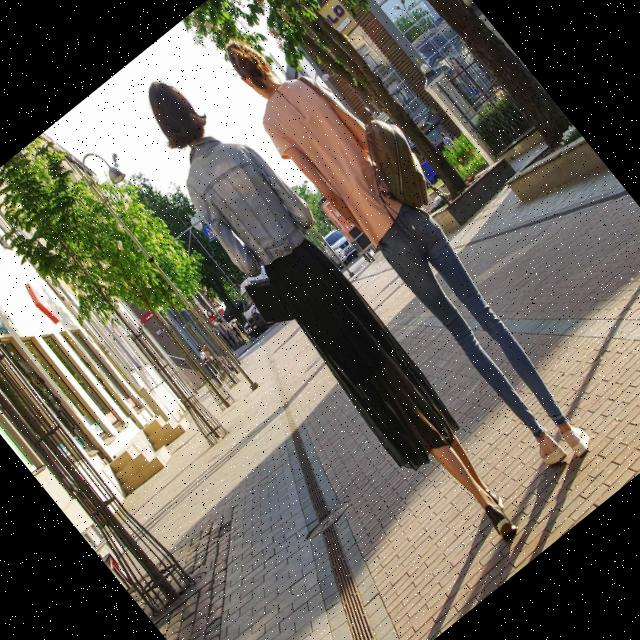Person: (105, 56, 550, 570), (204, 0, 631, 482)
